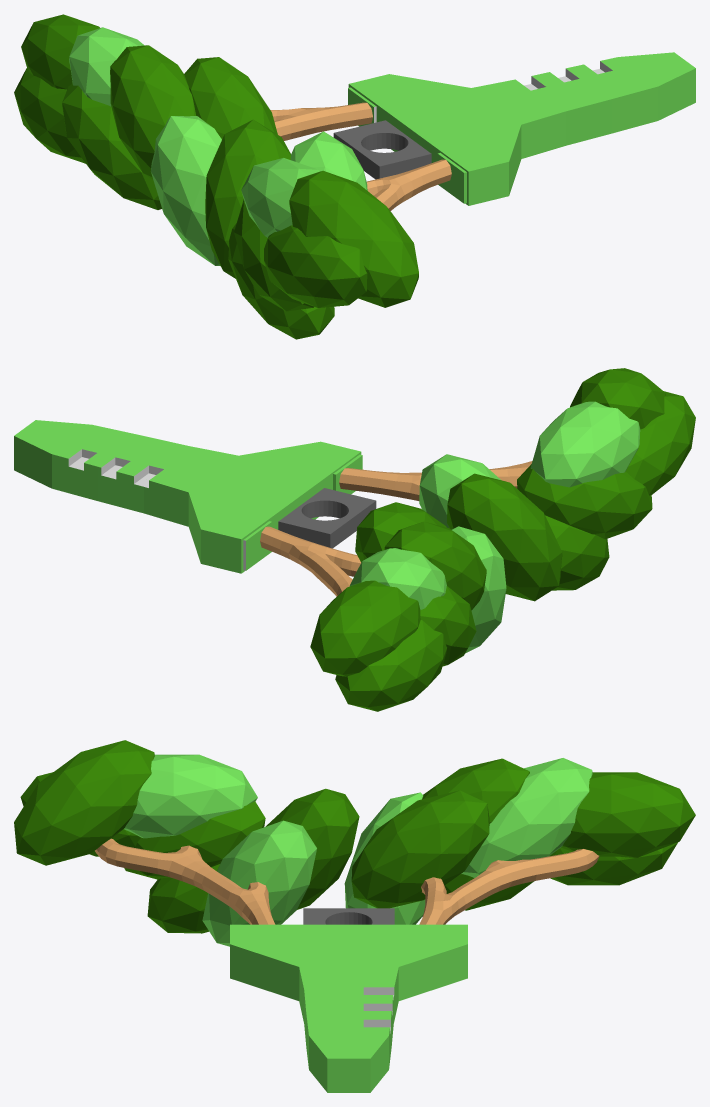
The model's file is treekey.fbx.
3 views of the same model, one above another, from view 1: azimuth 30°, elevation 25°; view 2: azimuth 150°, elevation 25°; view 3: azimuth 270°, elevation 25° (orthographic).
Visible parts, largest first — view 1: Cube; view 2: Cube; view 3: Cube.
Boxes of the visible parts, x1,y1,x2,y2 form: Cube: (14,14,695,339); Cube: (14,368,695,711); Cube: (14,740,695,1092).
Bounding box in the file's own units: 198 × 67.59 × 223.
